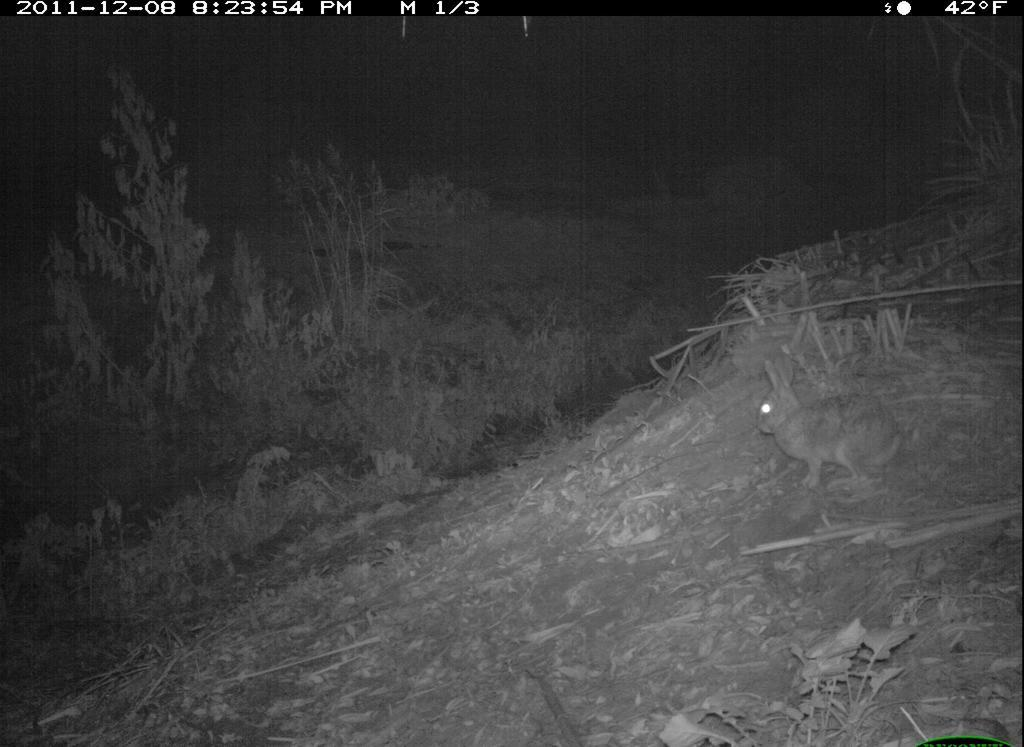rabbit: (752, 351, 905, 500)
